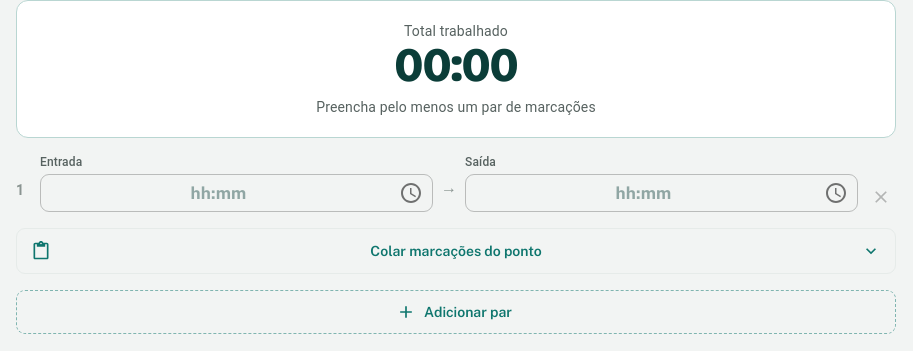
Test: TempoTotal › totals the pairs as they are filled in
The image size is (913, 351).
Step 1. Click the number field named "Horas" → {"x": 201, "y": 193}, box [190,183,211,203]
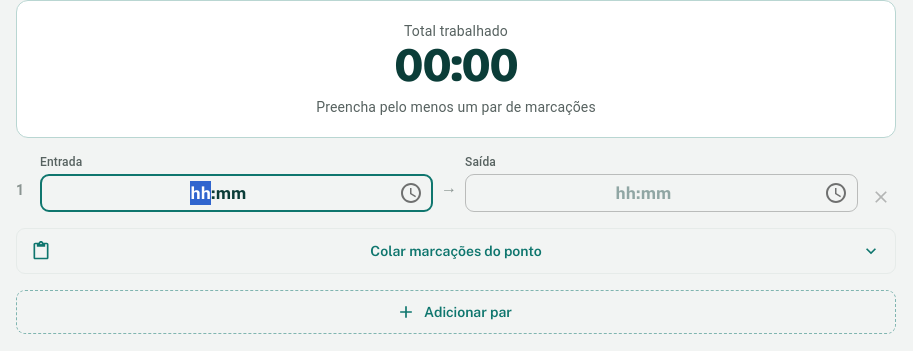
Step 2. Type keys "0800"
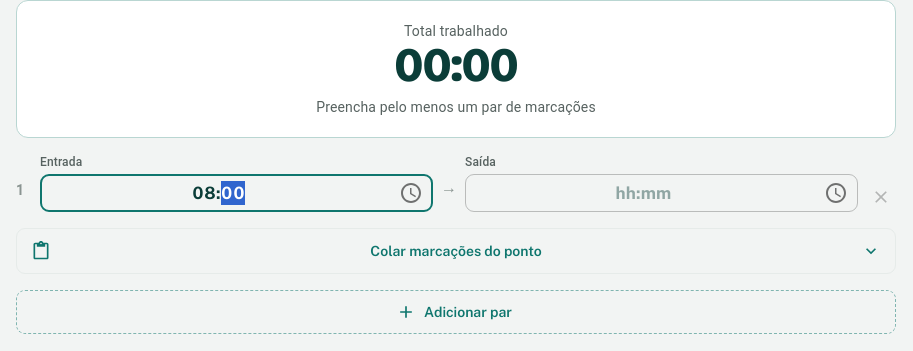
Step 3. Click the number field named "Horas" → {"x": 626, "y": 193}, box [616,183,636,203]
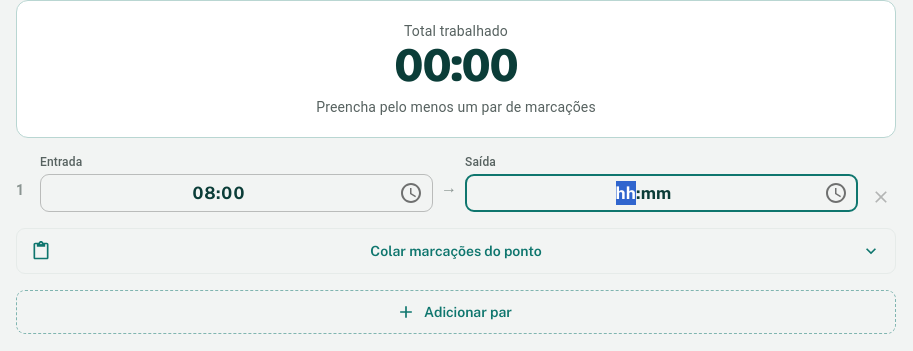
Step 4. Type keys "1200"
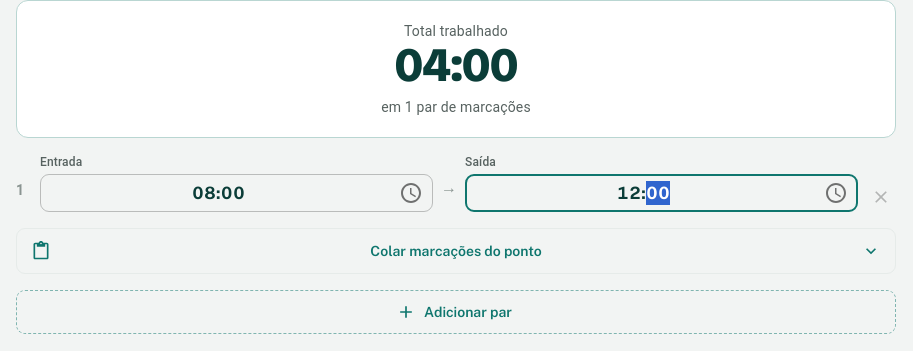
Check: the text "04:00" is shown, box [394,36,518,94]
